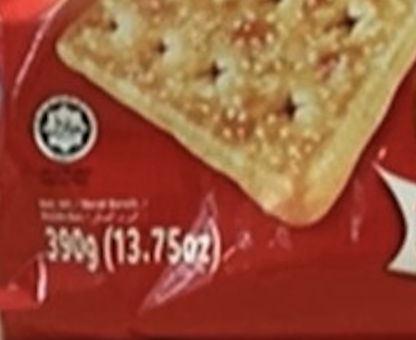halal: (47, 116, 86, 143)
